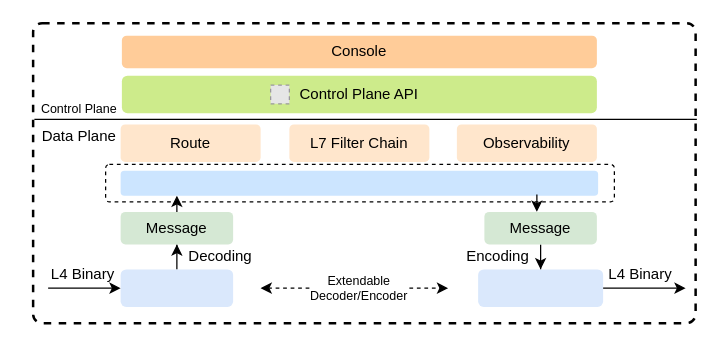
This 720x345 diagram has some shape labels left out. Grey dashed boxes stand in for pictures. The box of each missing label's shape, as (x1, y1, x2, y2) in pixels:
Decoder: (120, 269, 232, 306)
Encoder: (478, 269, 602, 306)
Generic Message Interface: (120, 170, 598, 195)
